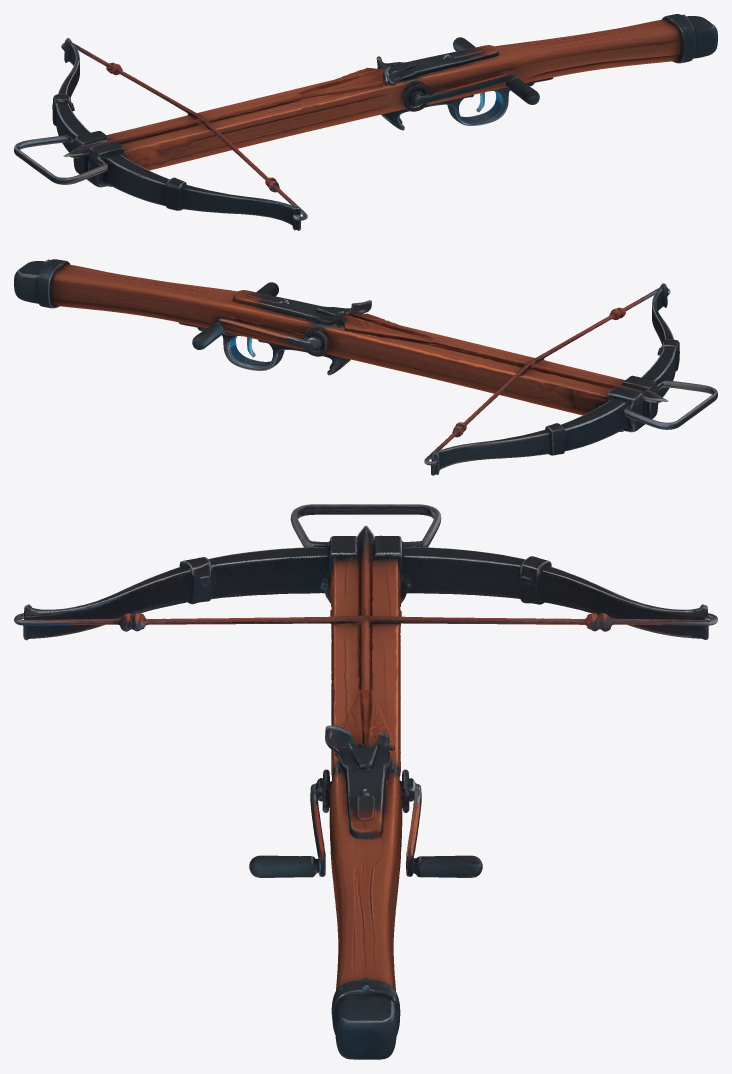
Rendered from heavy crossbow.glb.
3 views of the same model, one above another, from view 1: azimuth 30°, elevation 25°; view 2: azimuth 150°, elevation 25°; view 3: azimuth 270°, elevation 25° (orthographic). The views are drawn at different scales.
Bounding box in the file's own units: 1.9 × 0.2234 × 1.16.
1 material, 1 textured.
